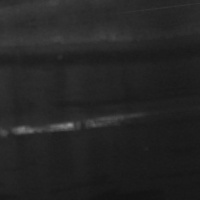scratches: (0, 109, 133, 142)
